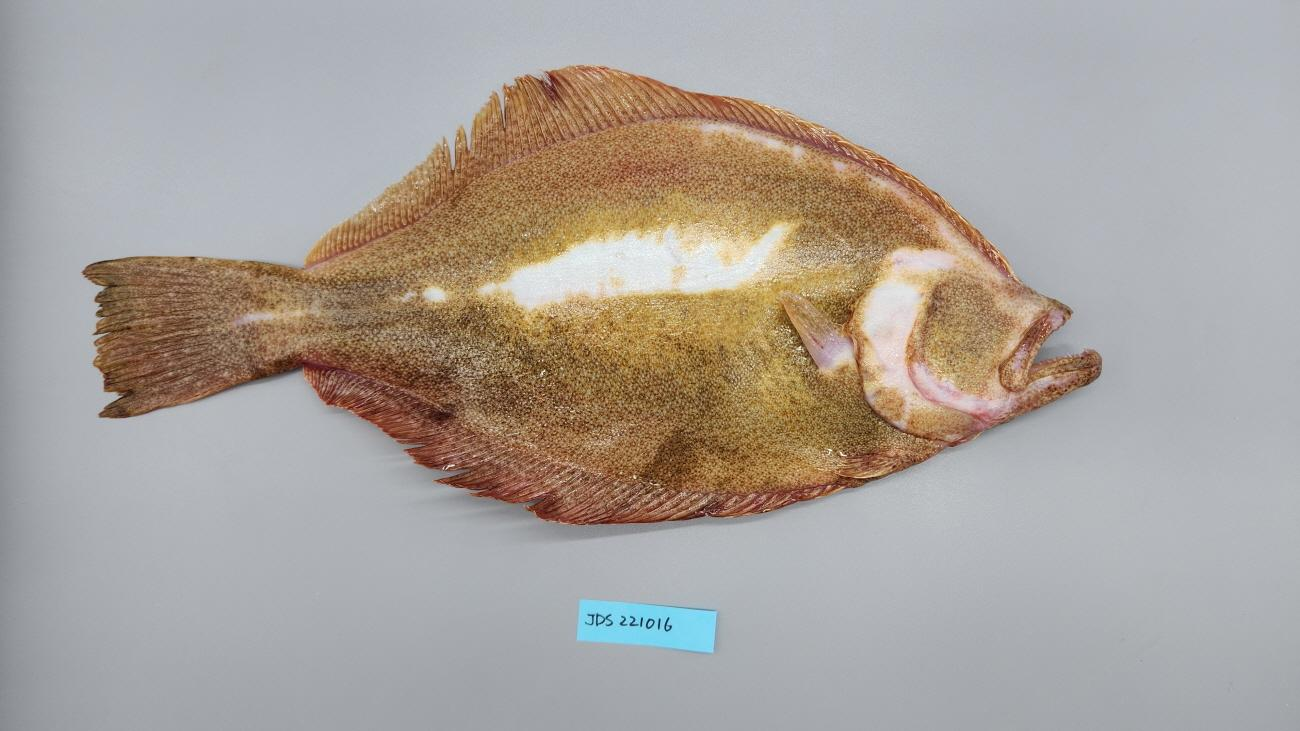POOUN: (81, 65, 1102, 525)
